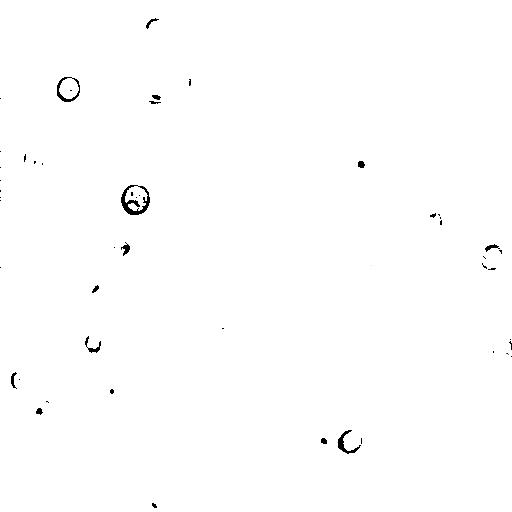micro-algae: (145, 26, 227, 105), (119, 263, 159, 304), (118, 184, 151, 216), (96, 375, 129, 406), (175, 65, 203, 101), (271, 50, 298, 85), (477, 242, 506, 274), (350, 152, 375, 185), (359, 255, 389, 282), (337, 428, 366, 454), (56, 74, 81, 103), (145, 487, 174, 511), (490, 334, 512, 365), (27, 401, 55, 425), (311, 429, 337, 454), (229, 0, 259, 21), (22, 148, 45, 173), (107, 237, 133, 259), (423, 211, 447, 234), (82, 331, 105, 353), (79, 276, 100, 293), (10, 370, 27, 389), (145, 16, 163, 32)
